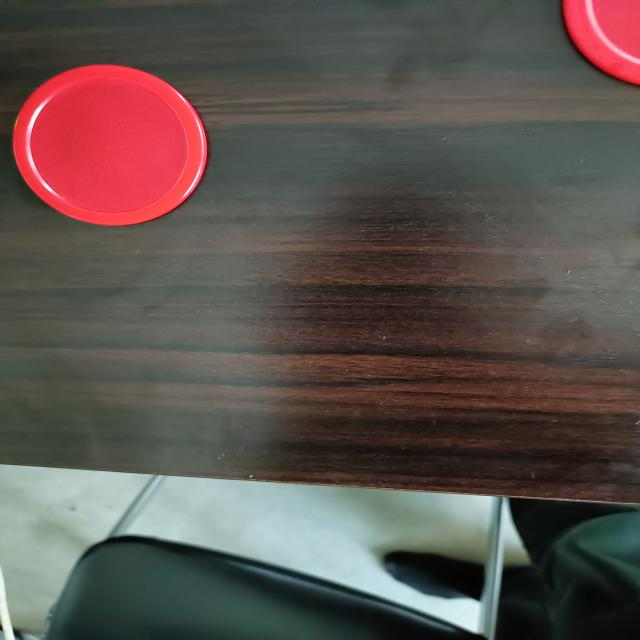chip: (9, 61, 213, 229), (562, 0, 638, 86)
